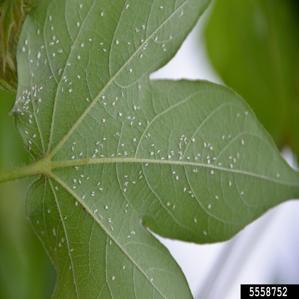Silverleaf whitefly: (0, 0, 299, 284)
